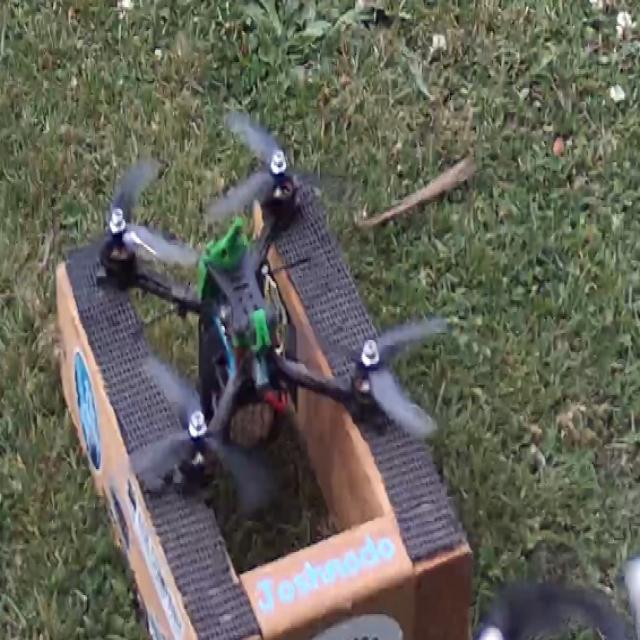drone: (41, 94, 472, 522)
